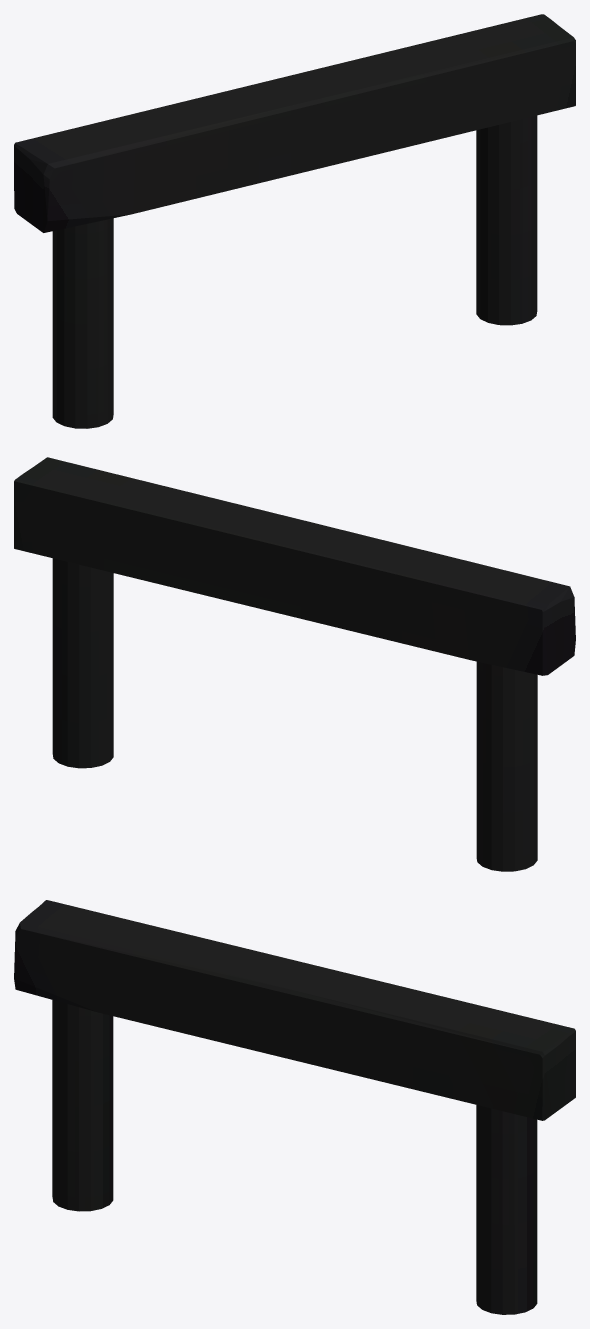
The model's file is Highway_Segment_Pillar02.fbx.
The picture shows the model from 3 angles, top to bottom: view 1: azimuth 30°, elevation 25°; view 2: azimuth 150°, elevation 25°; view 3: azimuth 330°, elevation 25°; orthographic projection.
Parts seen in each view (by area): view 1: SM_City_Highway_Segment_Pillar_04a.mo; view 2: SM_City_Highway_Segment_Pillar_04a.mo; view 3: SM_City_Highway_Segment_Pillar_04a.mo.
Boxes of the visible parts, <box> form: SM_City_Highway_Segment_Pillar_04a.mo: <box>14,14,575,428</box>; SM_City_Highway_Segment_Pillar_04a.mo: <box>14,457,575,871</box>; SM_City_Highway_Segment_Pillar_04a.mo: <box>14,900,575,1314</box>.
Size of the model in its own units: 2310 by 1140 by 251.
